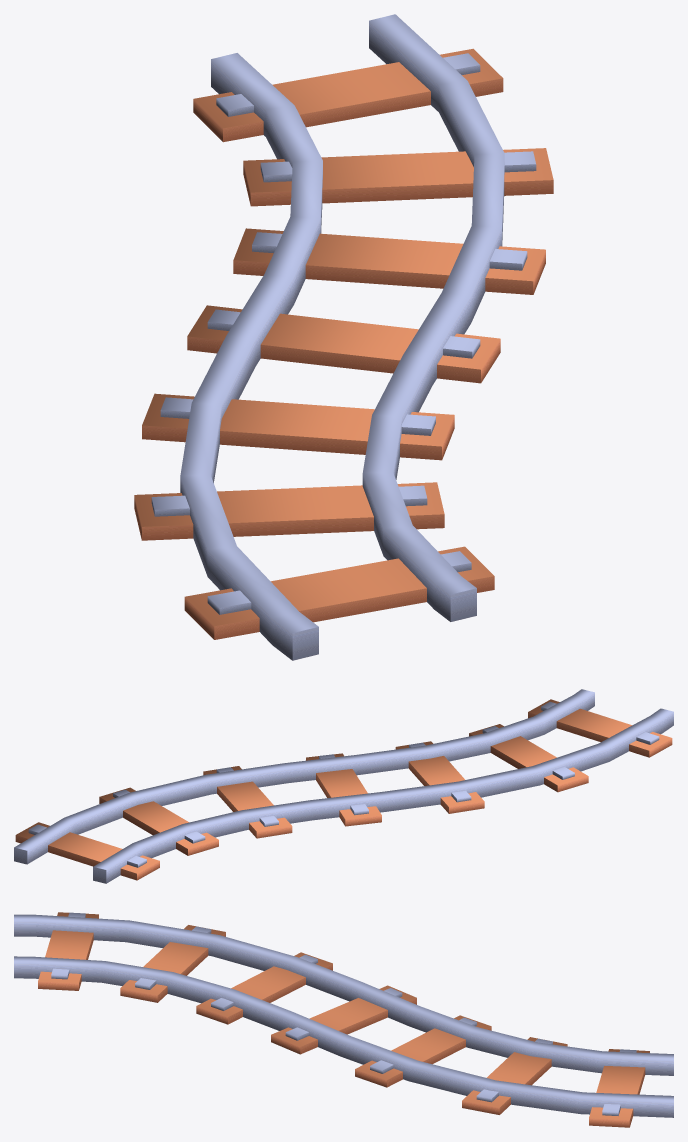
File: railroad-curve.glb
3 renders of one model, top to bottom at view 1: azimuth 30°, elevation 25°; view 2: azimuth 150°, elevation 25°; view 3: azimuth 270°, elevation 25°, orthographic. The views are drawn at different scales.
Visible parts, largest first — view 1: railroad-curve; view 2: railroad-curve; view 3: railroad-curve.
Part boxes in pixels (bbox=[...]): railroad-curve: bbox=[134, 14, 553, 660]; railroad-curve: bbox=[14, 689, 673, 883]; railroad-curve: bbox=[14, 912, 673, 1127].
Size of the model in its own units: 2.98 by 0.1001 by 4.
Materials: 1 (1 with a texture image).
